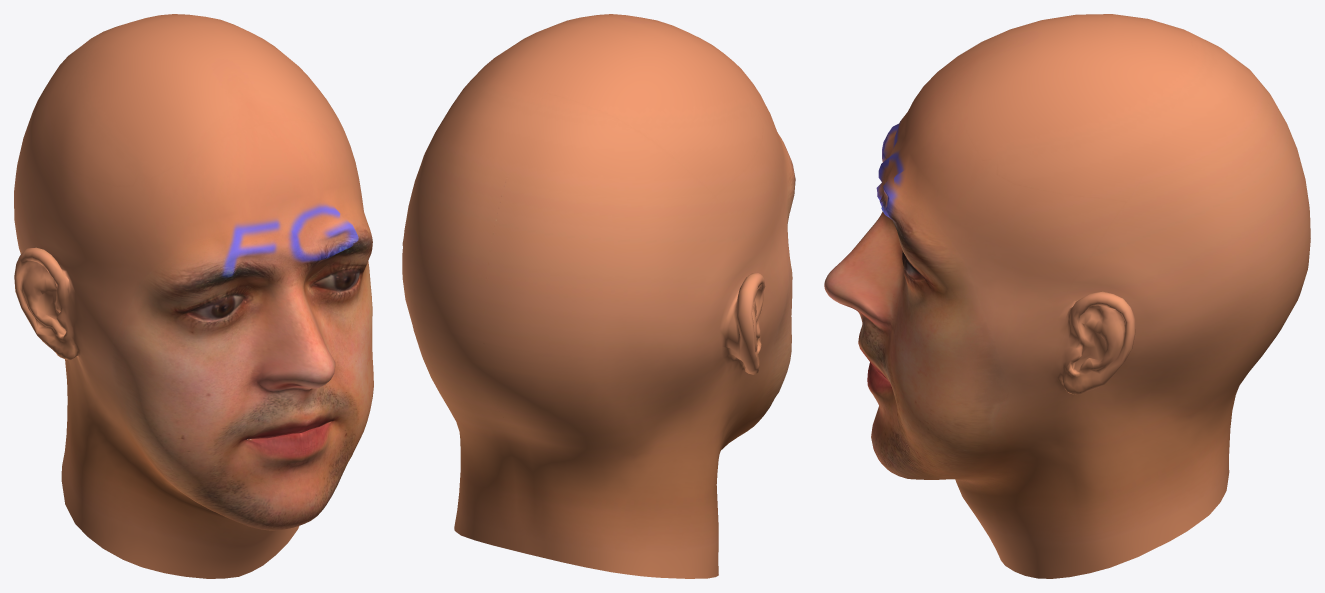
The model's file is MaleFaced11.obj.
3 views of the same model, side by side, from view 1: azimuth 30°, elevation 25°; view 2: azimuth 150°, elevation 25°; view 3: azimuth 270°, elevation 25° (orthographic). The views are drawn at different scales.
Parts seen in each view (by area): view 1: HeadHires; view 2: HeadHires; view 3: HeadHires.
Boxes of the visible parts, bbox=[...] form: HeadHires: bbox=[14, 14, 373, 578]; HeadHires: bbox=[402, 14, 795, 578]; HeadHires: bbox=[824, 14, 1310, 578].
Bounding box in the file's own units: 188 × 283 × 237.
